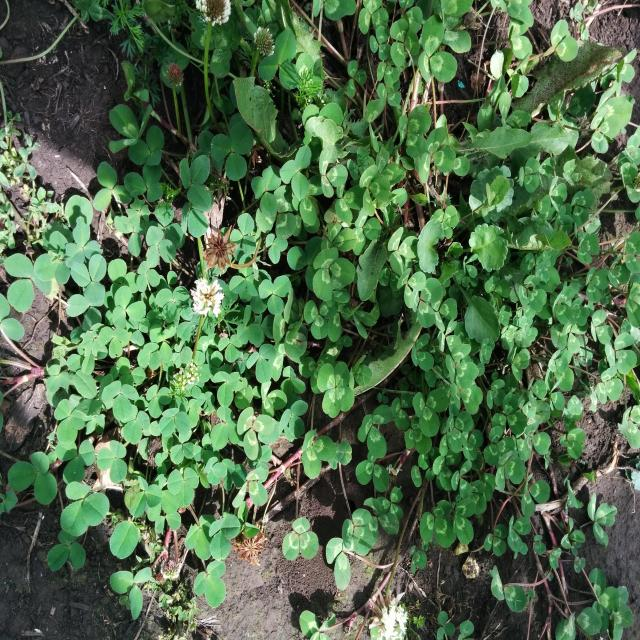Four Leaf Clover: (317, 362, 354, 418)
